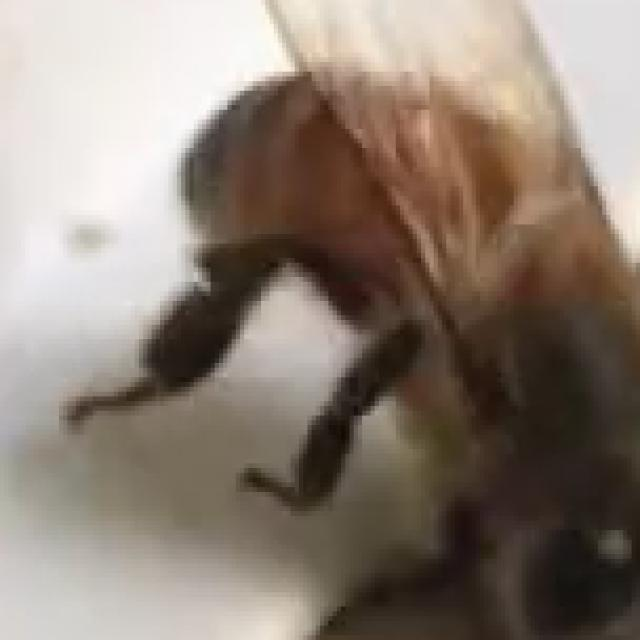honeybee: (152, 38, 636, 640)
